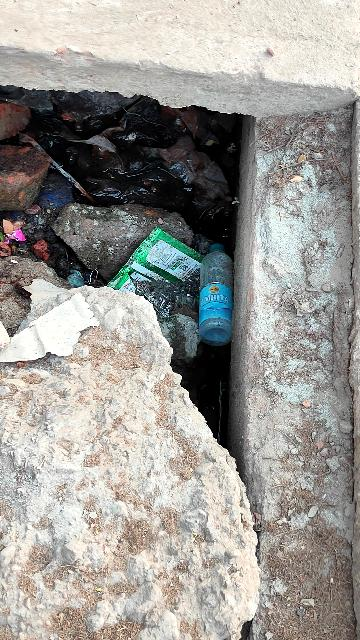bottle: (200, 245, 236, 345)
